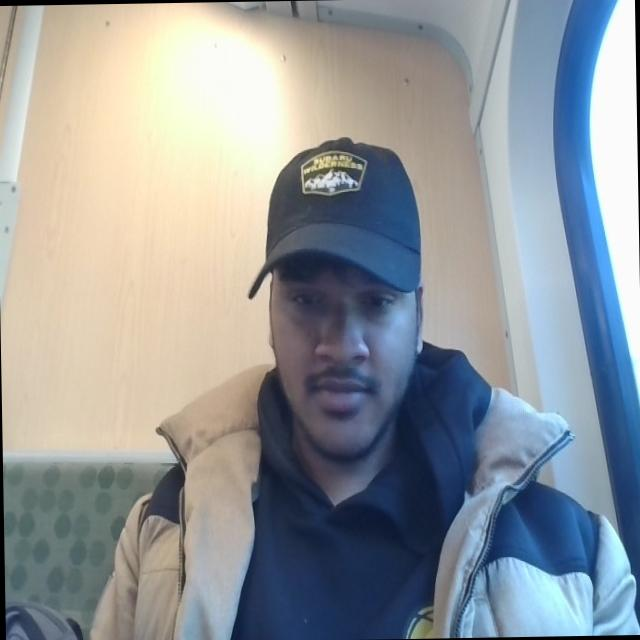hat: (242, 120, 430, 307)
